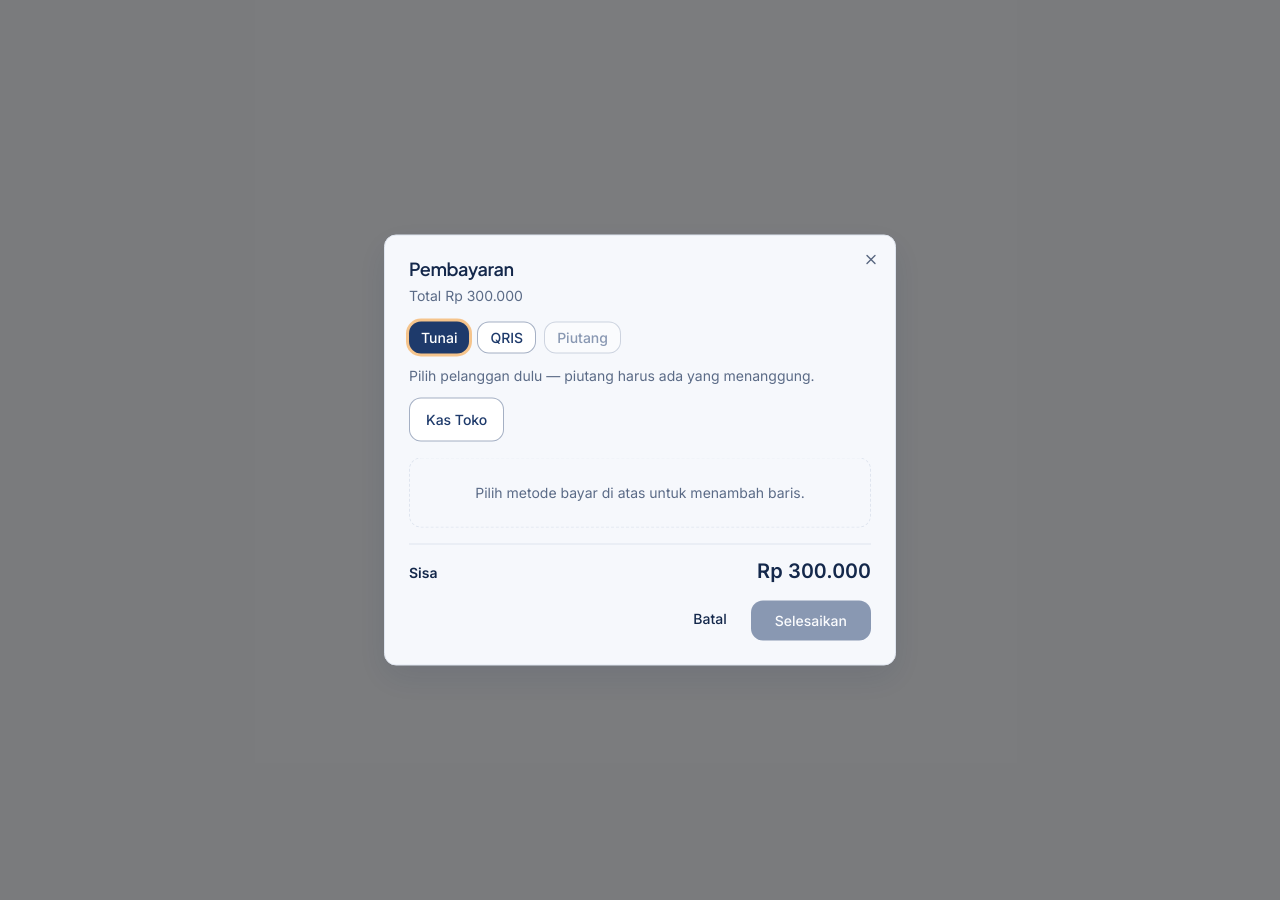
Test: PosPaymentDialog — the remainder › blocks Selesaikan while the sale is underpaid
Click the button "Kas Toko".
click(457, 420)  # box [409, 398, 504, 442]
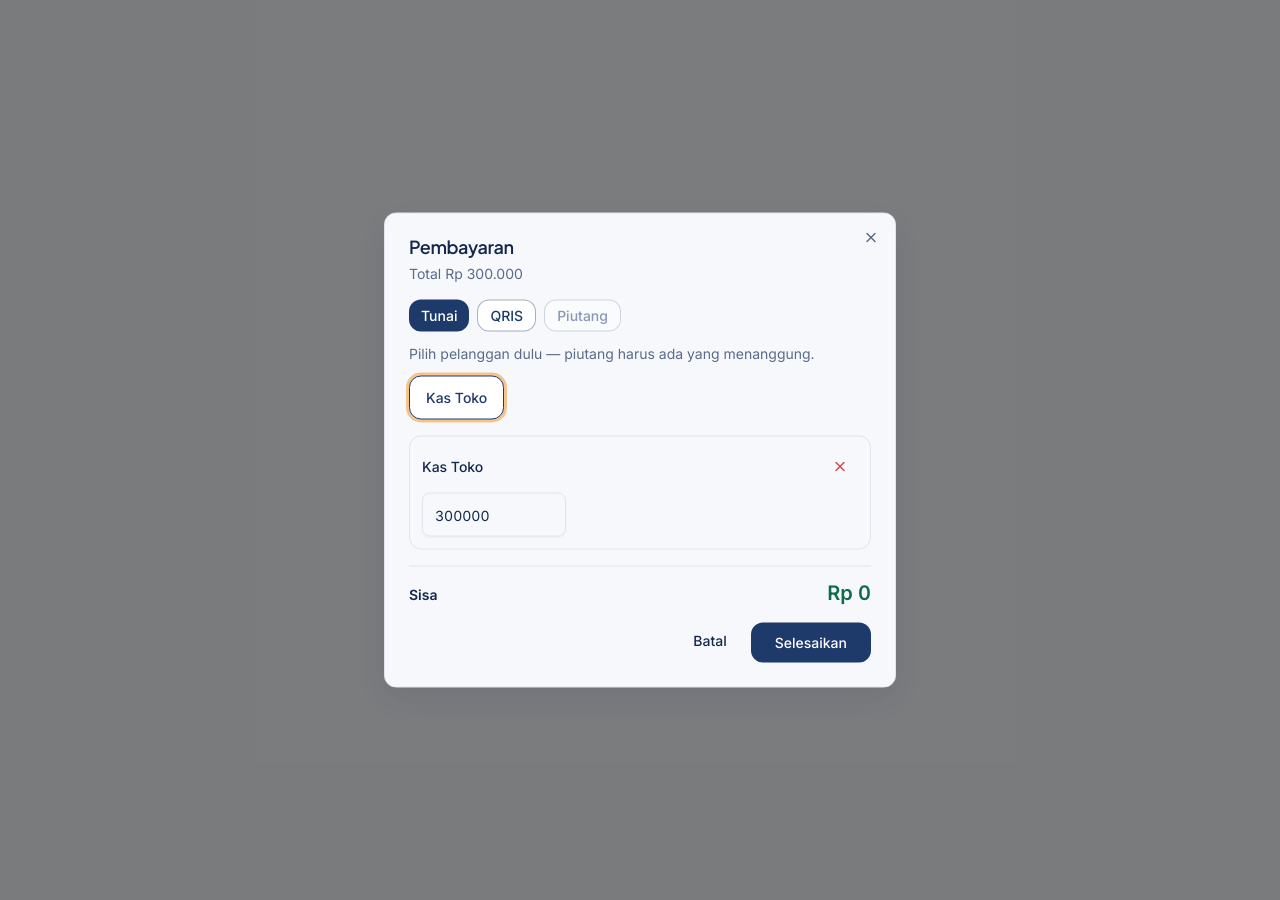
Replace the text in the field named "jumlah kas toko" with "250000" at (494, 514), box [422, 492, 566, 536]
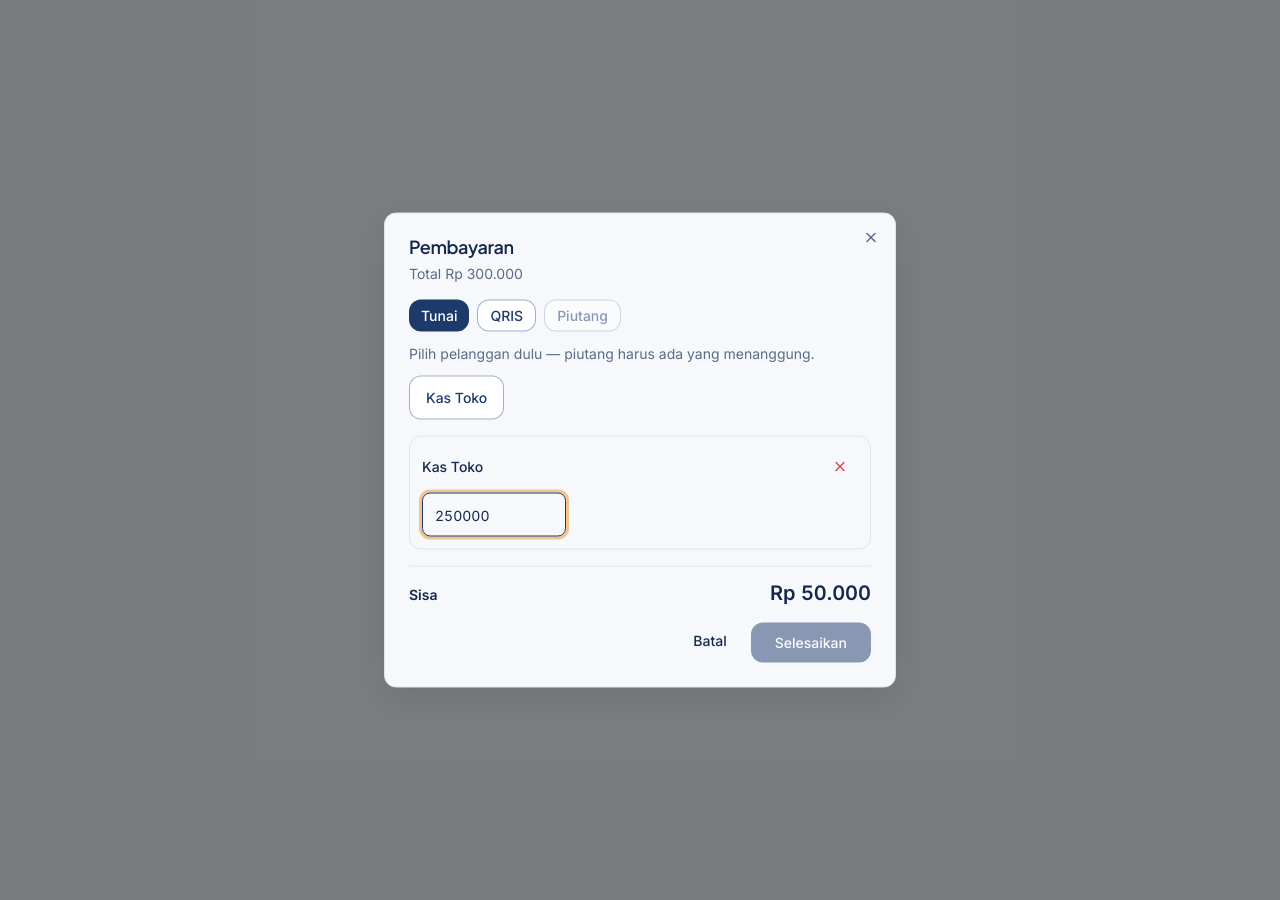
Result: the button "Selesaikan" is disabled at [751, 622, 871, 662]
Result: the text "Rp 50.000" is shown at [770, 578, 871, 606]
